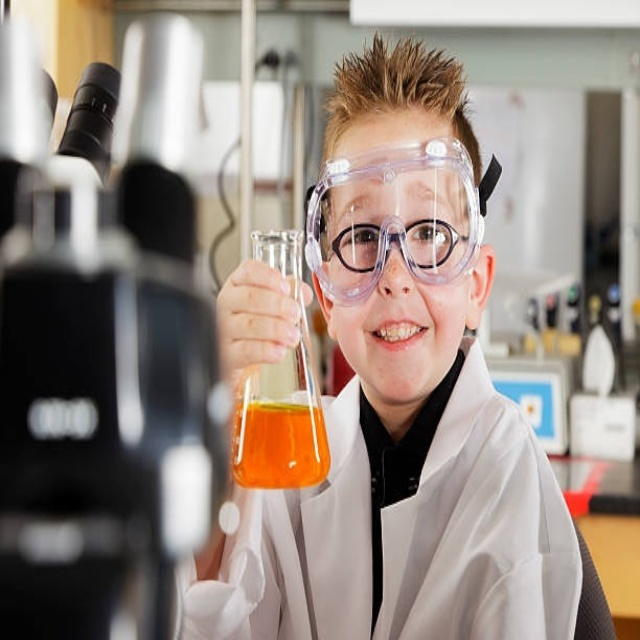Gafas: (304, 136, 486, 304)
Sin_guantes: (214, 256, 313, 378)
Sin_mascara: (364, 311, 432, 375)
